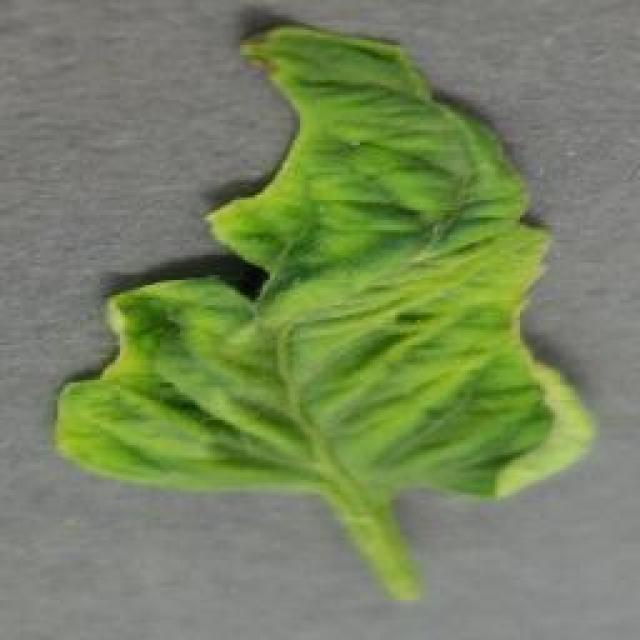Tomato yellow virus leaf: (55, 21, 593, 511)
